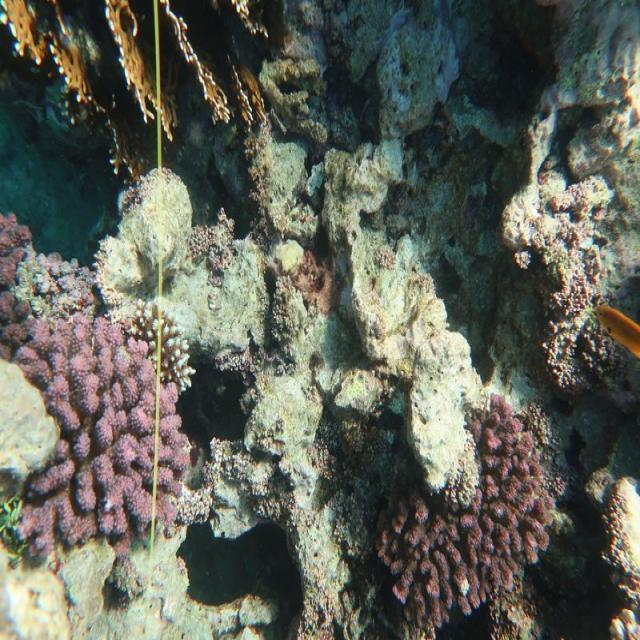Bleached Coral: (160, 311, 195, 391), (125, 300, 158, 362)
Healthy Coral: (378, 396, 554, 628), (16, 323, 190, 549), (0, 0, 277, 134), (0, 208, 36, 352)
